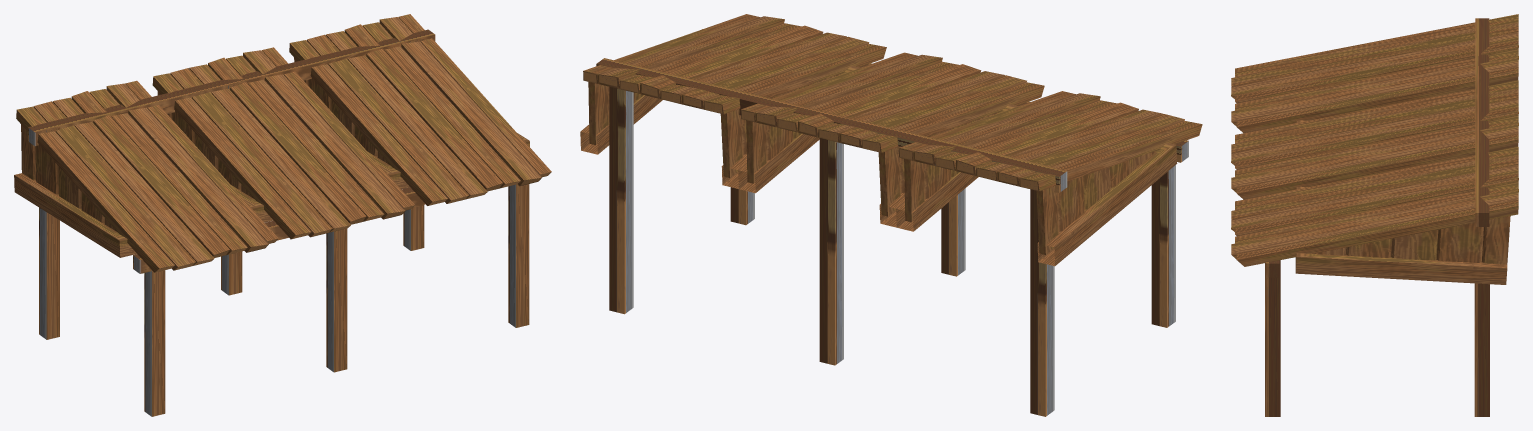
Rendered from Unterstand.gltf.
The picture shows the model from 3 angles, left to right: view 1: azimuth 30°, elevation 25°; view 2: azimuth 150°, elevation 25°; view 3: azimuth 270°, elevation 25°; orthographic projection. The views are drawn at different scales.
Parts seen in each view (by area): view 1: Unterstand; view 2: Unterstand; view 3: Unterstand.
Part boxes in pixels (box(x1,y1,x2,y2)): Unterstand: box(14, 14, 551, 416); Unterstand: box(580, 14, 1202, 416); Unterstand: box(1231, 14, 1518, 416).
Bounding box in the file's own units: 6.76 × 3.43 × 4.12.
3 materials, 3 textured.
